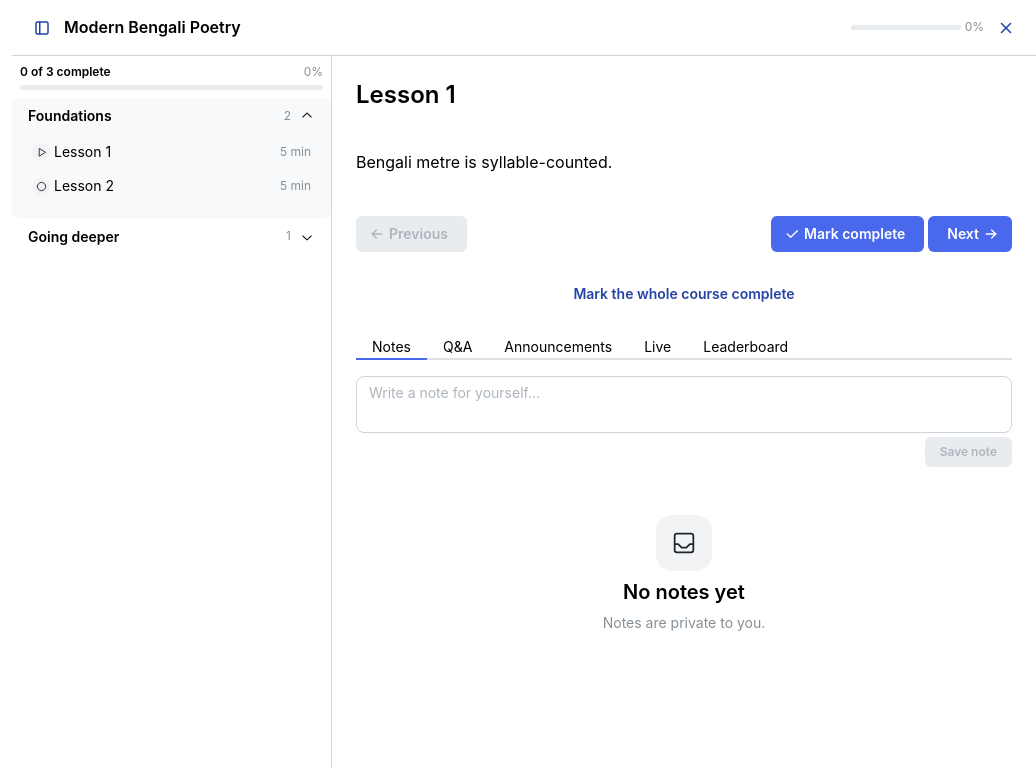
PlayerRoute › marks an item complete optimistically
What coordinates should you click on to do the following:
click the button "Mark complete"
I would click on:
 (848, 234)
Its box is [771,216,924,252].
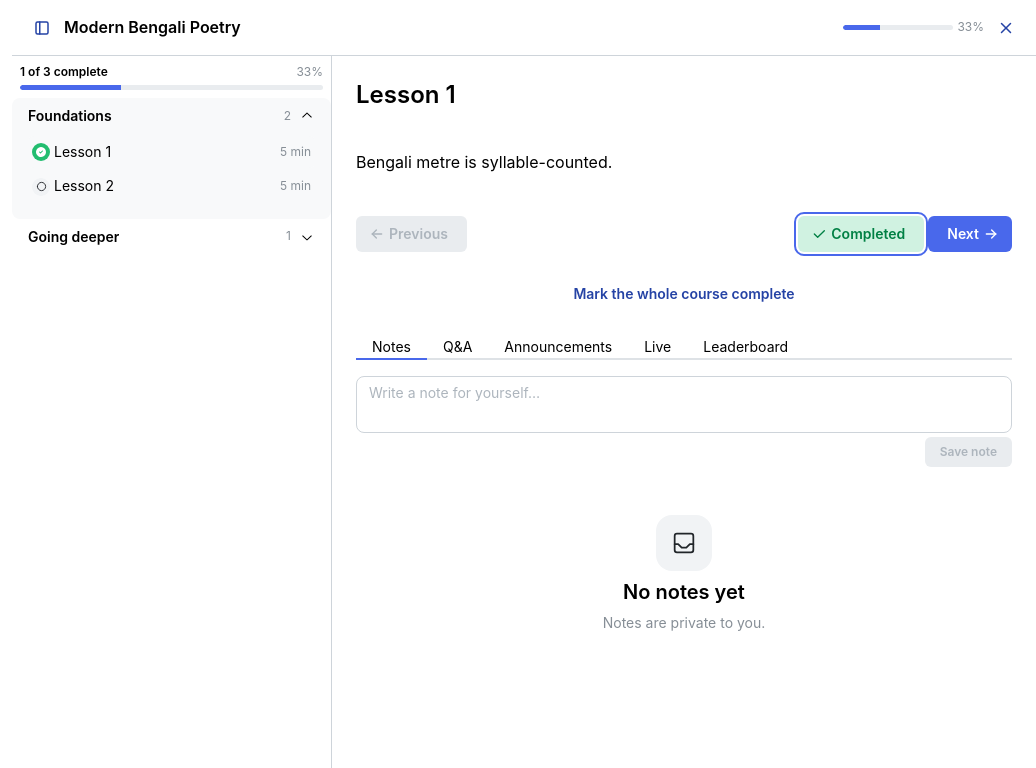
Check: the button "Completed" is shown, box [798,216,924,252]
